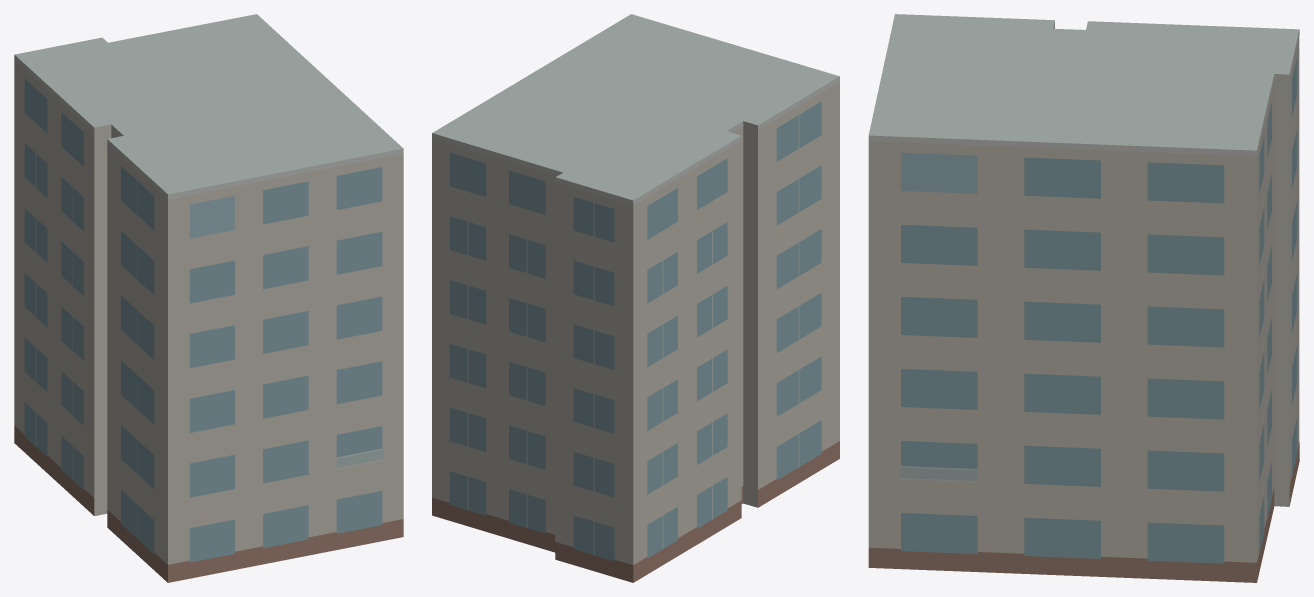
File: survey-upis-32679558.glb
3 renders of one model, left to right at view 1: azimuth 30°, elevation 25°; view 2: azimuth 150°, elevation 25°; view 3: azimuth 270°, elevation 25°, orthographic. The views are drawn at different scales.
Parts seen in each view (by area): view 1: survey-upis-32679558.tmp; view 2: survey-upis-32679558.tmp; view 3: survey-upis-32679558.tmp.
Boxes of the visible parts, left/top/right/bottom form: survey-upis-32679558.tmp: left=14, top=14, right=403, bottom=582; survey-upis-32679558.tmp: left=432, top=14, right=839, bottom=582; survey-upis-32679558.tmp: left=868, top=14, right=1299, bottom=582.
Size of the model in its own units: 12.41 by 18.3 by 16.54.
